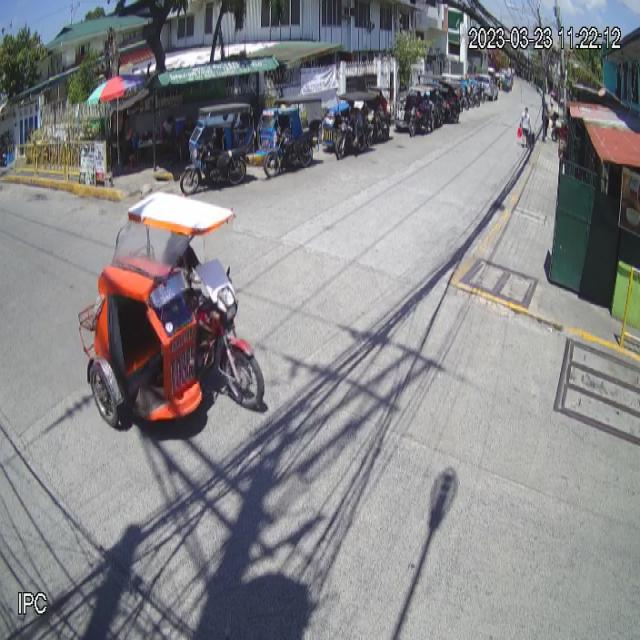Tricycle: (77, 191, 267, 433), (180, 102, 256, 196), (257, 93, 325, 177)
